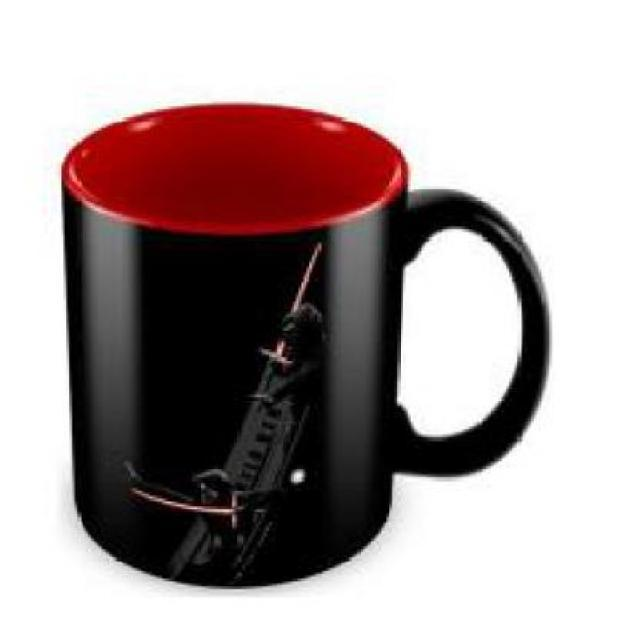taza: (61, 101, 554, 588)
